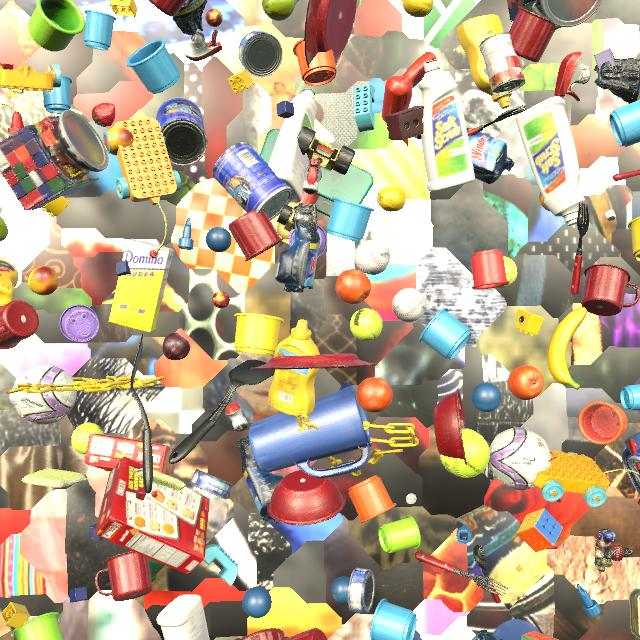ycb_002_master_chef_can: (212, 142, 293, 221), (156, 97, 207, 166), (629, 447, 640, 473)
ycb_003_cracker_box: (94, 456, 210, 574), (85, 433, 176, 475)
ycb_004_sugar_box: (109, 239, 174, 332)
ycb_005_tomato_soup_can: (479, 32, 525, 95)
ycb_006_mustard_bottle: (456, 15, 512, 109), (268, 320, 320, 418), (0, 257, 18, 307)
ycb_007_tuna_fish_can: (238, 31, 283, 77), (189, 469, 233, 500), (347, 567, 375, 614)
ycb_010_potted_meat_can: (629, 588, 640, 639)
ycb_011_banana: (547, 307, 587, 390)
ycb_012_strawberry: (92, 103, 115, 127), (639, 58, 640, 60)
ycb_014_lemon: (377, 186, 406, 212), (402, 0, 433, 18)
ycb_015_peach: (28, 266, 58, 295), (104, 127, 134, 155), (539, 192, 549, 211)
ycb_016_pear: (262, 0, 299, 21), (0, 216, 8, 241)
ycb_017_orange: (356, 377, 393, 413), (508, 365, 544, 400), (335, 269, 371, 304)
ycb_018_plum: (162, 333, 191, 360)
